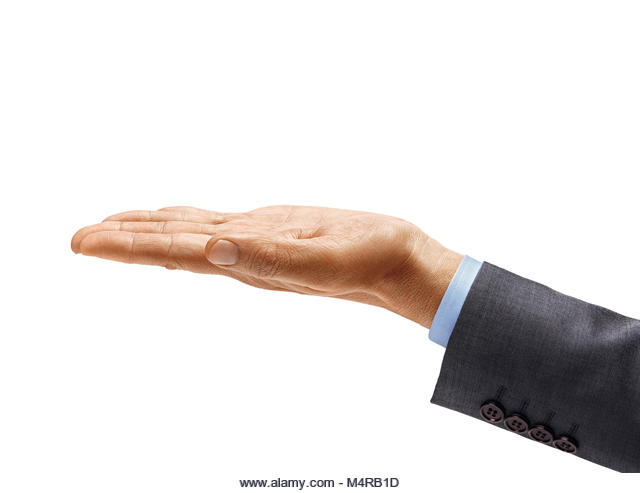non-diseased: (78, 181, 432, 300)
